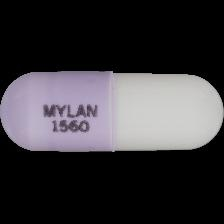16590-815: (0, 0, 224, 224)
